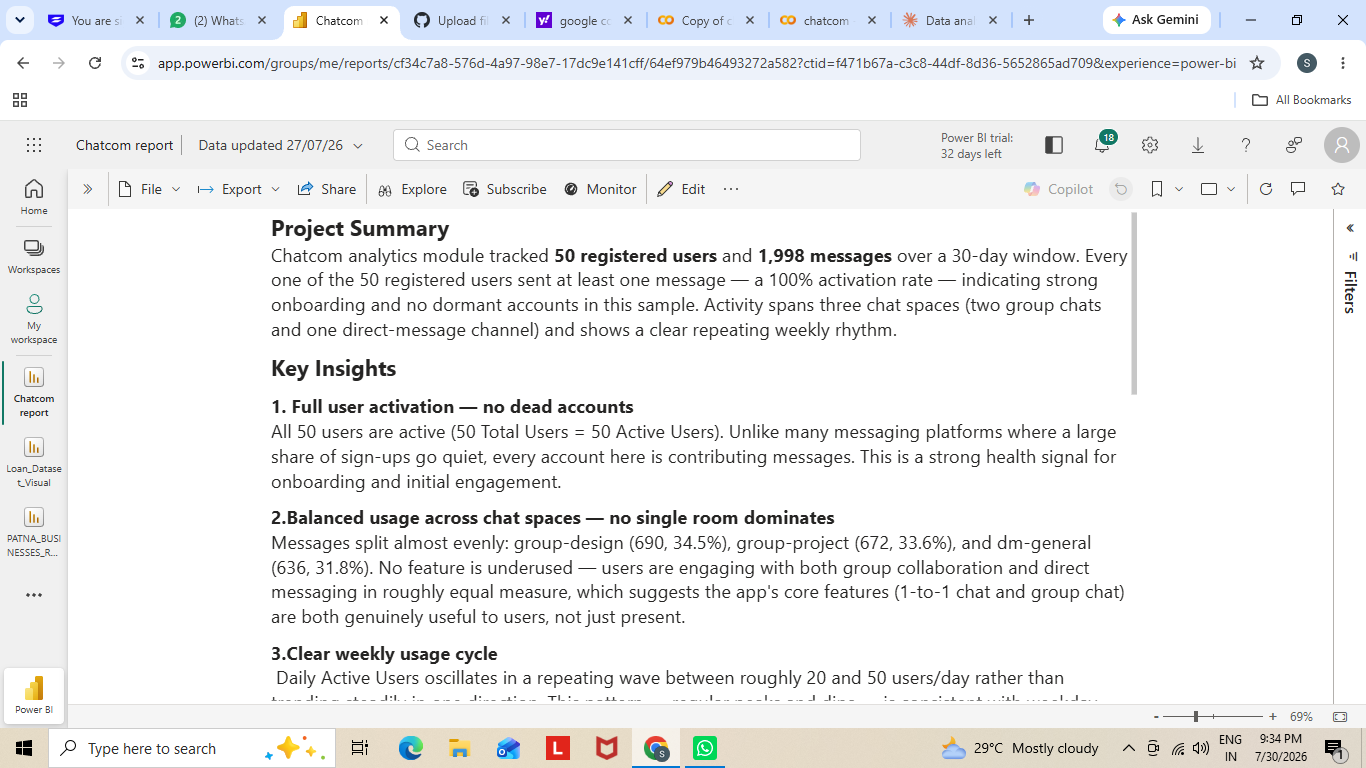

The dashboard page shown, as its layout file describes it:
{"tool":"powerbi","page":{"name":"Insights and Recommendations","canvas":[1280,720],"ordinal":2},"visuals":[{"type":"textbox","box":[10.6,0,1268.7,720],"z":0}]}

Visuals, with their boxes on the page's 1280x720 design canvas (x1, y1, x2, y2). These are canvas units, not pixel positions in the 1366x768 screenshot, which may show the page scaled, cropped or inside an application window:
textbox: 11,0,1279,720
